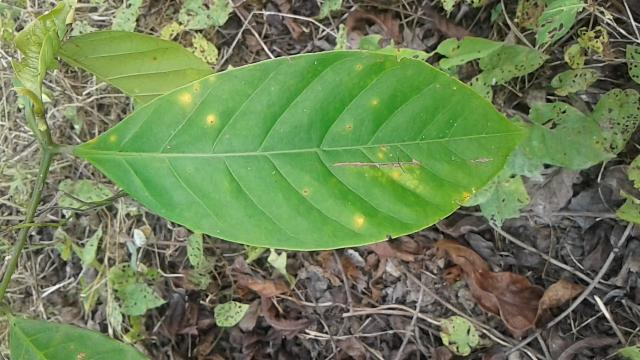rust_level_1: (78, 54, 530, 255)
